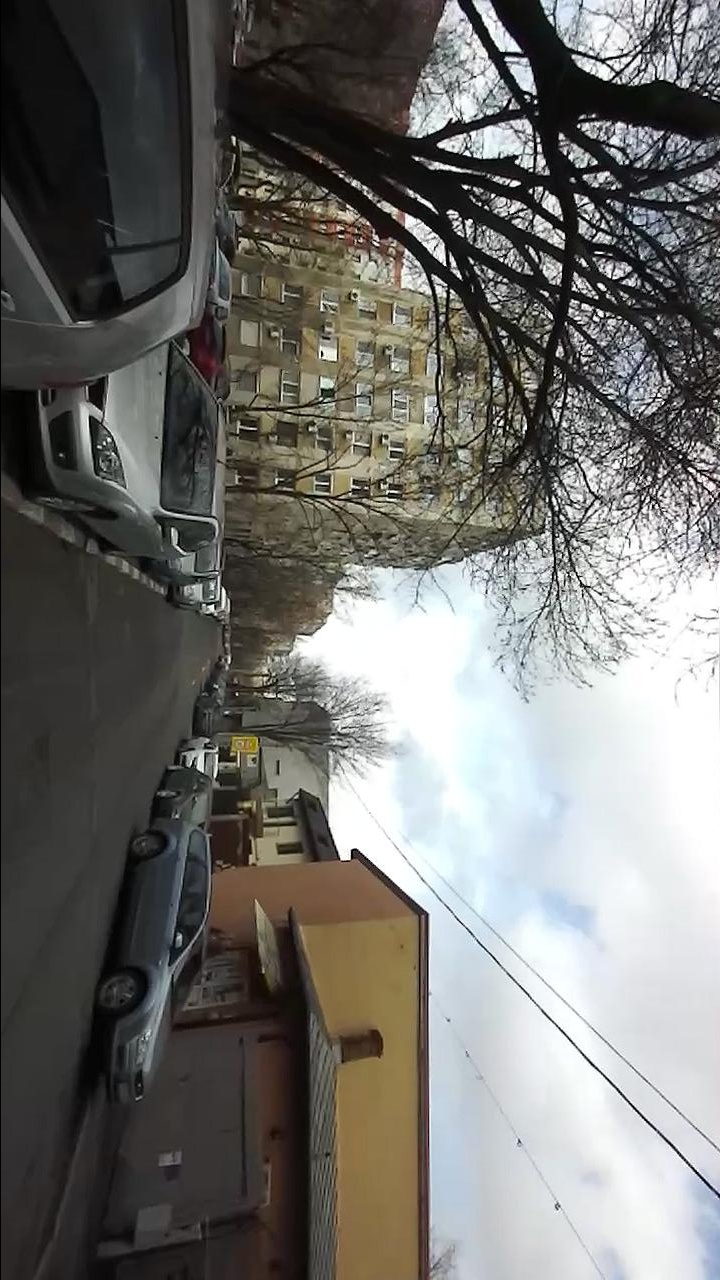pothole: (25, 727, 58, 792)
